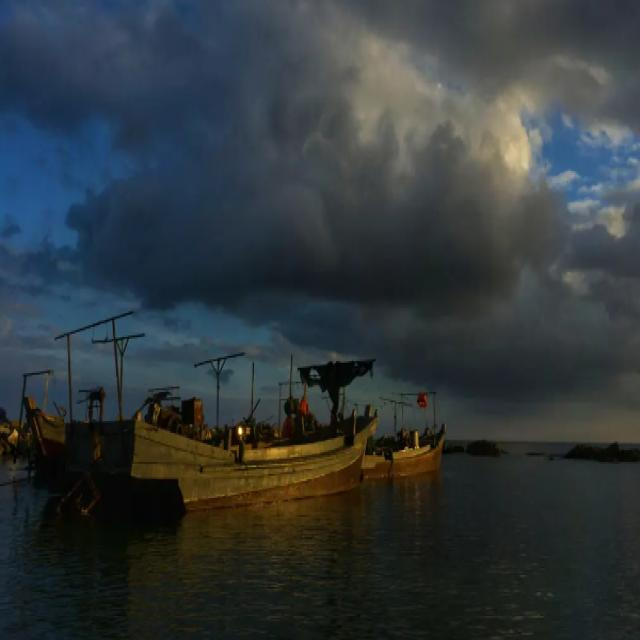fishing boat: (64, 357, 384, 508), (356, 386, 444, 479)
